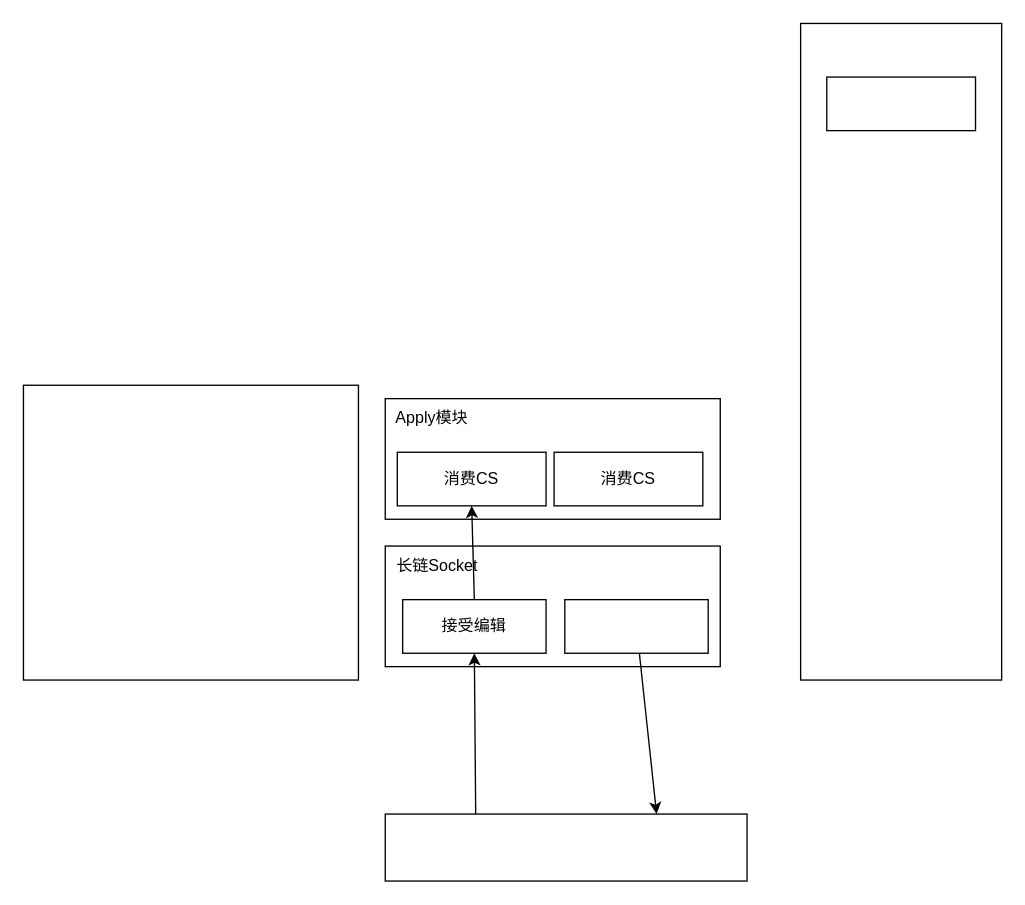
Image size: 1025x905. Some labels were removed from this diagram. The box of each missing label's shape, as (x1, y1, x2, y2) in pixels:
分发编辑: (563, 598, 708, 653)
短链HTTP: (22, 384, 358, 680)
